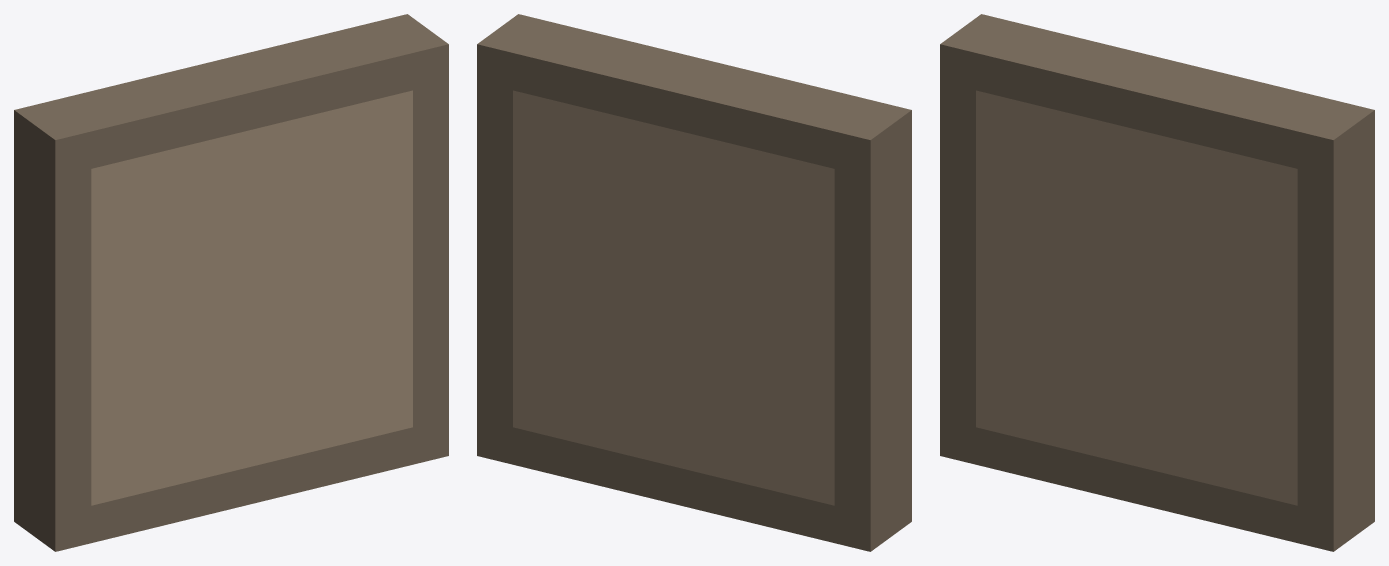
Rendered from farol_techo_hierro_nuevo_01.glb.
The picture shows the model from 3 angles, left to right: view 1: azimuth 30°, elevation 25°; view 2: azimuth 150°, elevation 25°; view 3: azimuth 330°, elevation 25°; orthographic projection.
Visible parts, largest first — view 1: farol_techo_hierro_nuevo; view 2: farol_techo_hierro_nuevo; view 3: farol_techo_hierro_nuevo.
Boxes of the visible parts, left/top/right/bottom form: farol_techo_hierro_nuevo: left=14, top=14, right=448, bottom=551; farol_techo_hierro_nuevo: left=477, top=14, right=911, bottom=551; farol_techo_hierro_nuevo: left=940, top=14, right=1374, bottom=551.
Bounding box in the file's own units: 1 × 1 × 0.1818.
